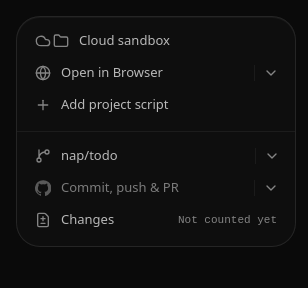
Scenario: the version control section › explains, rather than does nothing, while nap is still working
The width and height of the screenshot is (308, 288).
Click the button "Commit, push & PR" at x=140, y=188, box [25,172,254,204]
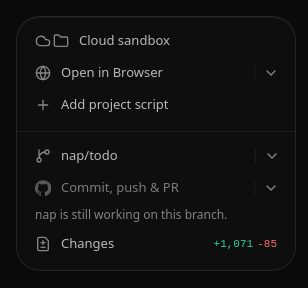
Now the message reads "nap is still working on this branch.", box [35,206,227,223]
